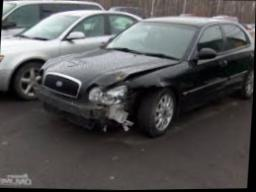Bumper: (68, 100, 129, 131)
